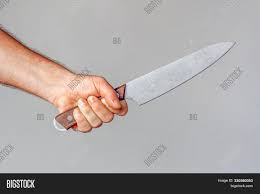knife: (44, 38, 241, 137)
